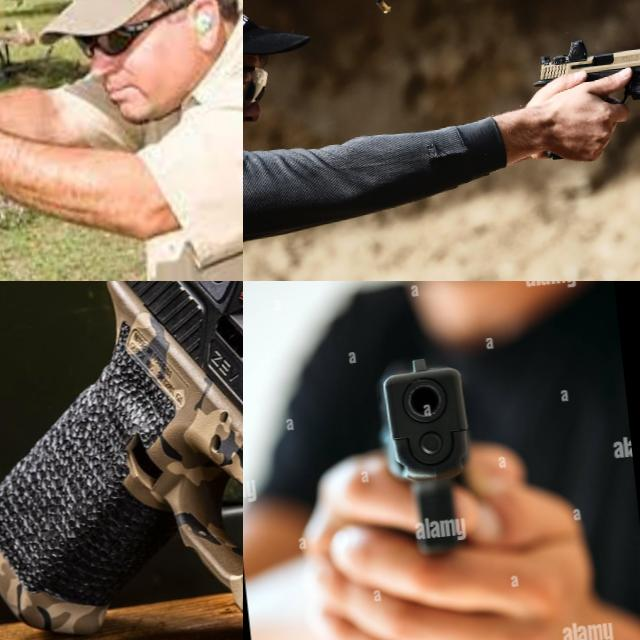handgun: (0, 281, 243, 640), (372, 348, 491, 582), (522, 27, 640, 166), (0, 53, 71, 148)
